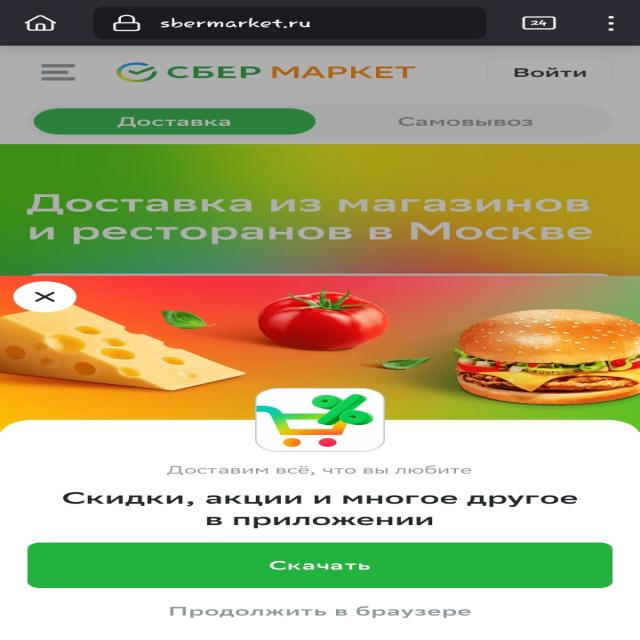button: (25, 541, 613, 589), (155, 597, 505, 631), (14, 282, 75, 314)
site: (2, 421, 640, 639), (0, 276, 640, 420)
